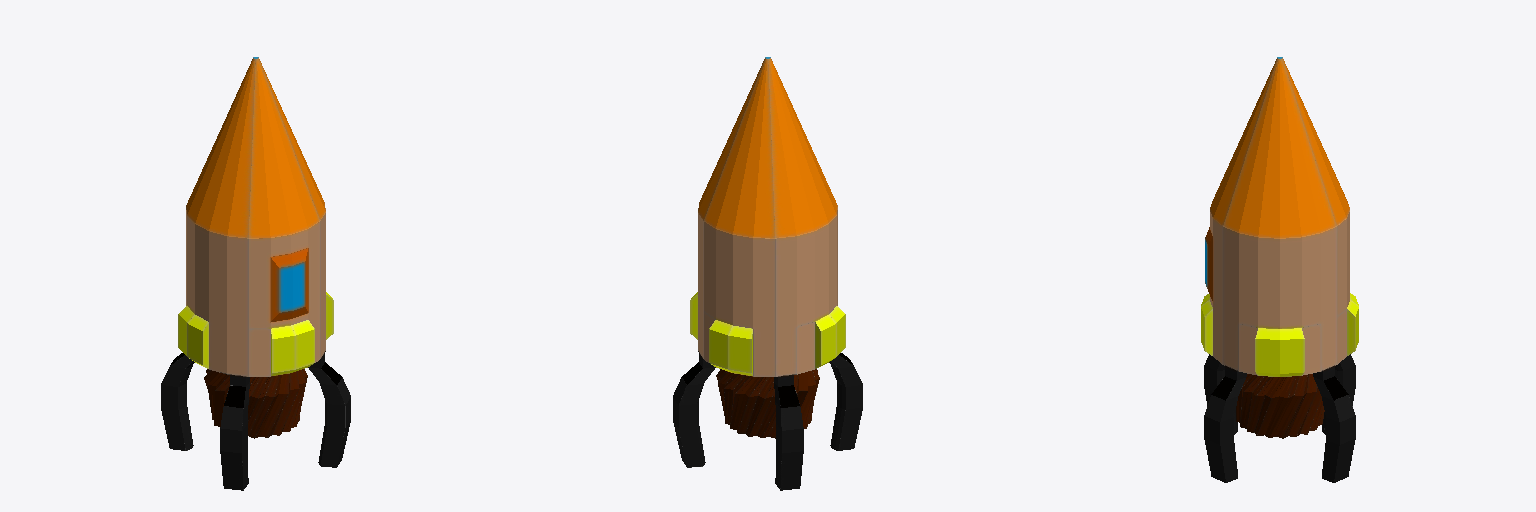
The picture shows the model from 3 angles: view 1: azimuth 30°, elevation 25°; view 2: azimuth 150°, elevation 25°; view 3: azimuth 270°, elevation 25°; orthographic projection.
Parts seen in each view (by area): view 1: pCylinder1; view 2: pCylinder1; view 3: pCylinder1.
Part boxes in pixels (bbox=[...]): pCylinder1: bbox=[161, 57, 350, 490]; pCylinder1: bbox=[673, 57, 862, 490]; pCylinder1: bbox=[1201, 57, 1358, 482].
Size of the model in its own units: 2.25 by 6.21 by 2.25.
1 materials, 1 textured.